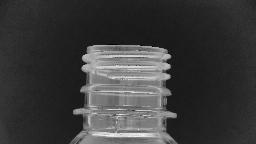No Cap: (69, 39, 181, 123)
